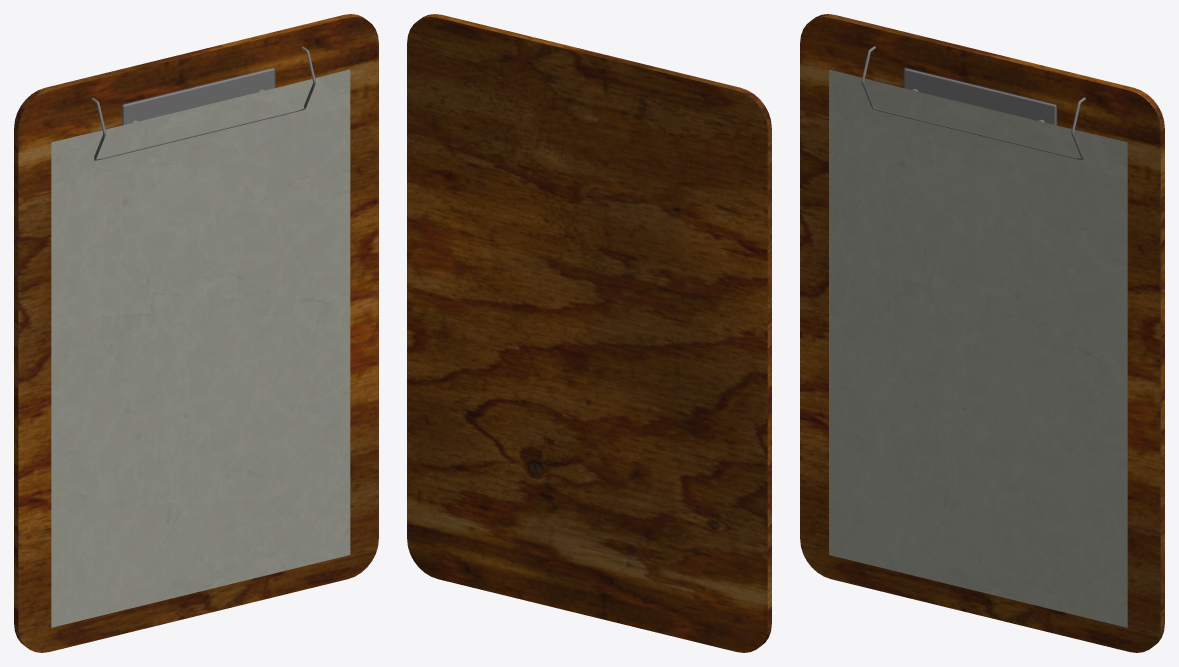
Rendered from Clipboard.fbx.
3 views of the same model, side by side, from view 1: azimuth 30°, elevation 25°; view 2: azimuth 150°, elevation 25°; view 3: azimuth 330°, elevation 25° (orthographic).
Visible parts, largest first — view 1: Clipboard.001; view 2: Clipboard.001; view 3: Clipboard.001.
Part boxes in pixels (x1,y1,x2,y2): Clipboard.001: [14, 14, 378, 652]; Clipboard.001: [407, 14, 771, 652]; Clipboard.001: [800, 14, 1164, 652].
Size of the model in its own units: 23.38 by 34.77 by 1.86.
Materials: 2 (2 with a texture image).
